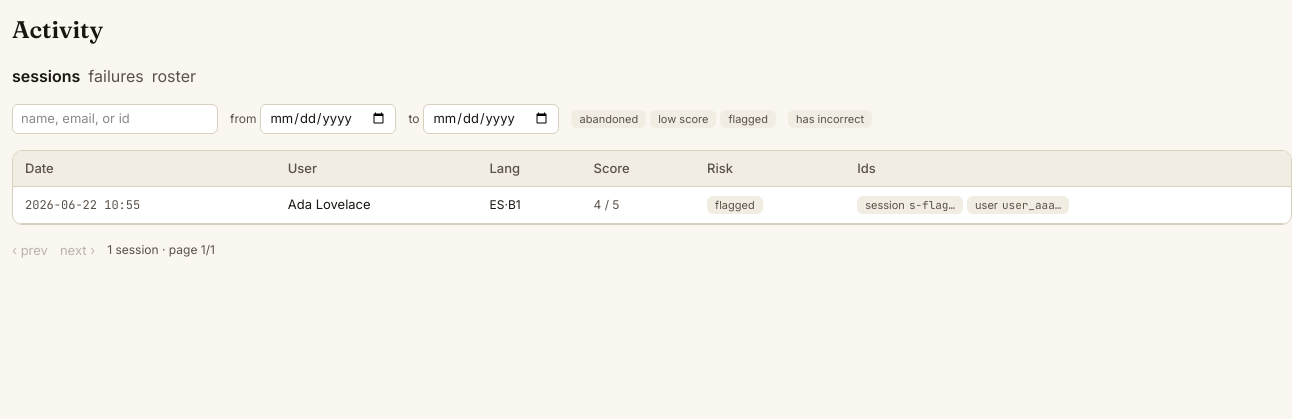
it: ActivityPage — Sessions tab › shows exercise and evaluation id chips in the expanded detail
What coordinates should you click on to do the following:
click the button "Ada Lovelace"
I would click on:
 (329, 205)
Its box is [288,195,371,214].
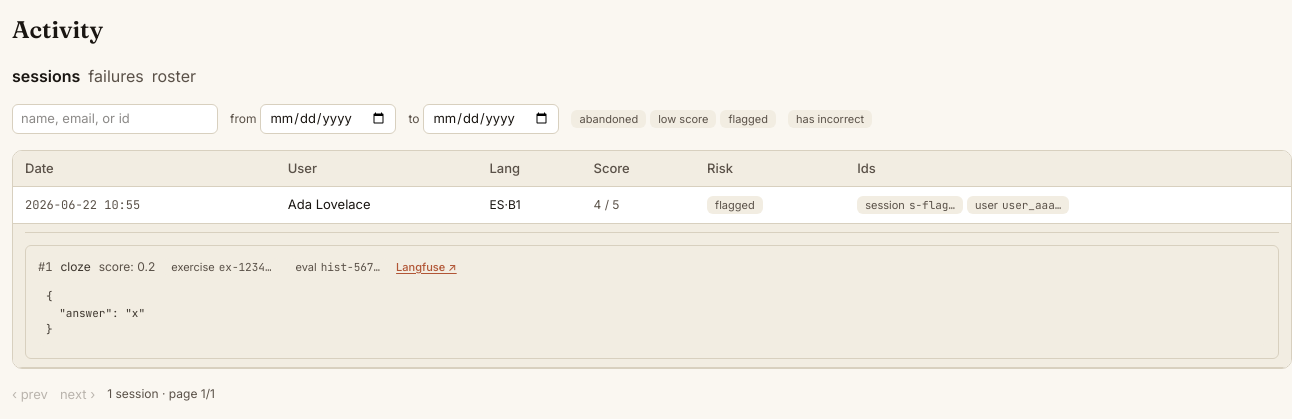
expect the button with aria-label "copy exercise id" is shown: met, box [163,258,280,276]
expect the button with aria-label "copy eval id" is shown: met, box [288,258,388,276]
